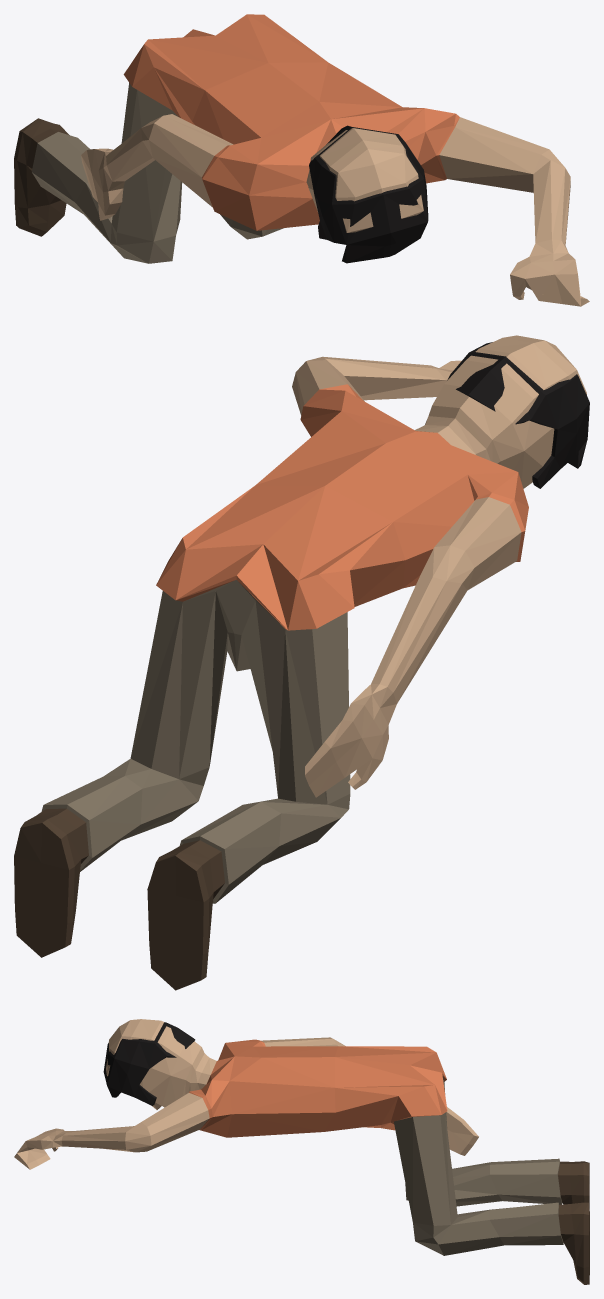
The model's file is man-sitting-cheering.obj.
3 views of the same model, one above another, from view 1: azimuth 30°, elevation 25°; view 2: azimuth 150°, elevation 25°; view 3: azimuth 270°, elevation 25° (orthographic). The views are drawn at different scales.
Visible parts, largest first — view 1: man-sitting-cheering; view 2: man-sitting-cheering; view 3: man-sitting-cheering.
Part boxes in pixels (x1,y1,x2,y2): man-sitting-cheering: (14,14,589,306); man-sitting-cheering: (14,335,589,990); man-sitting-cheering: (14,1019,589,1284).
Size of the model in its own units: 26.72 by 29.29 by 66.69.
